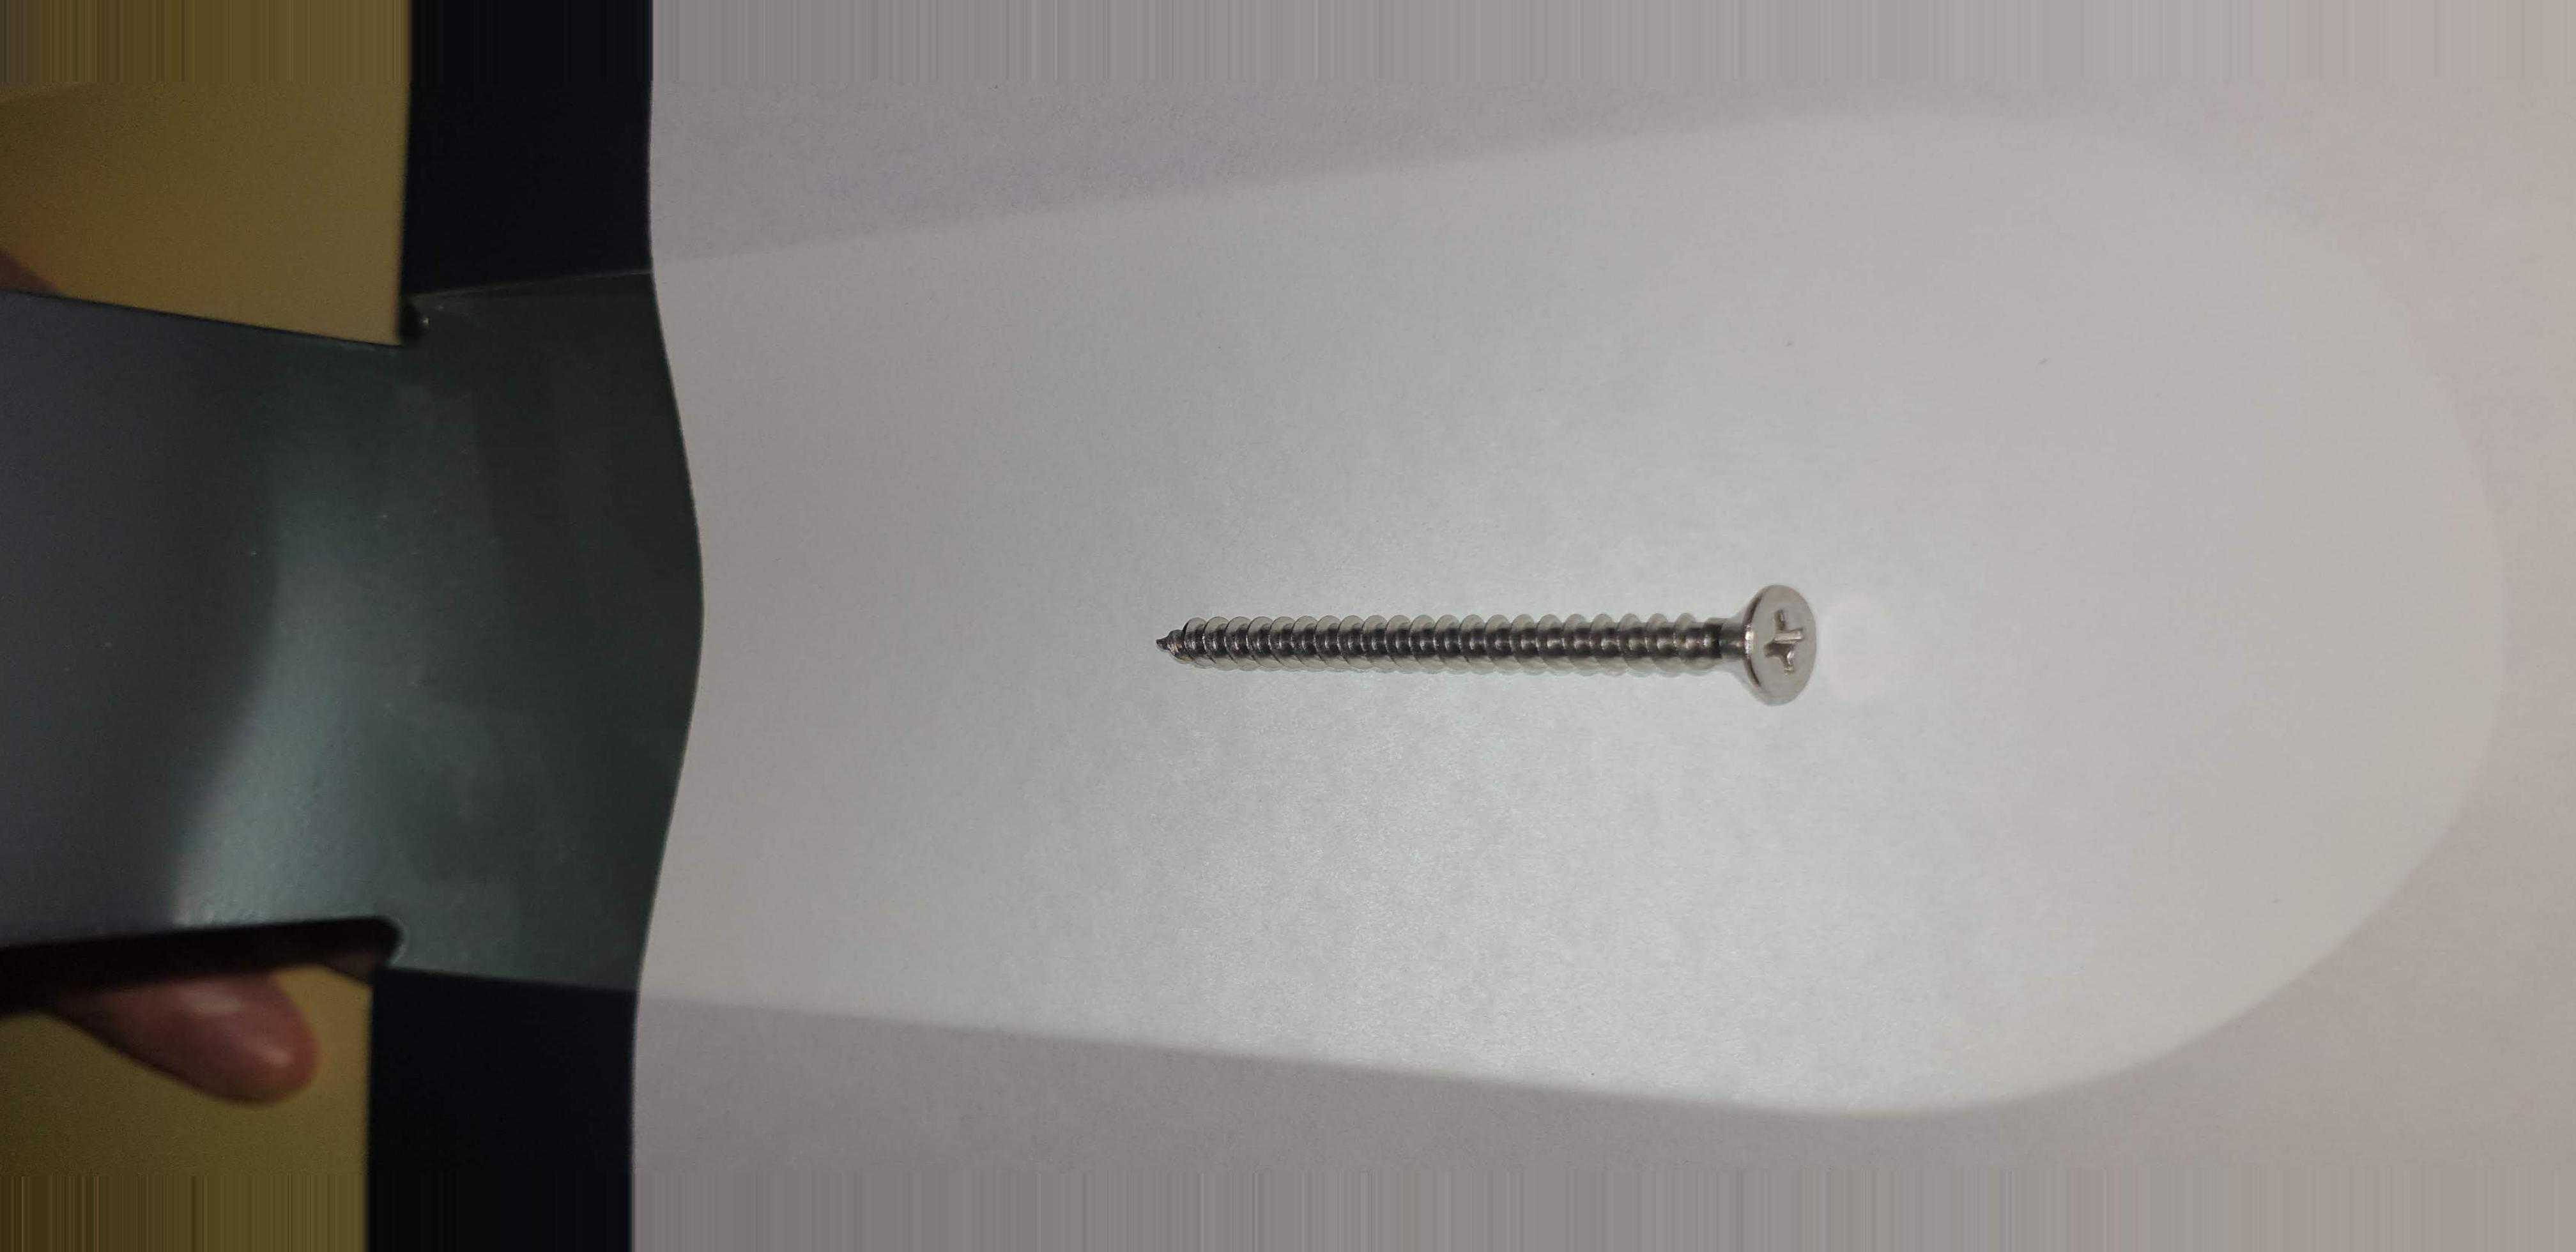fastener: (1104, 552, 1848, 738)
